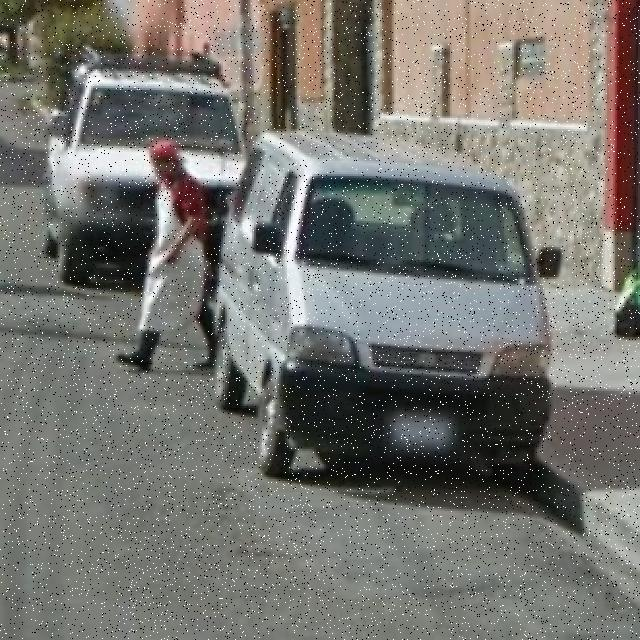cars: (232, 128, 566, 496), (38, 65, 244, 277)
